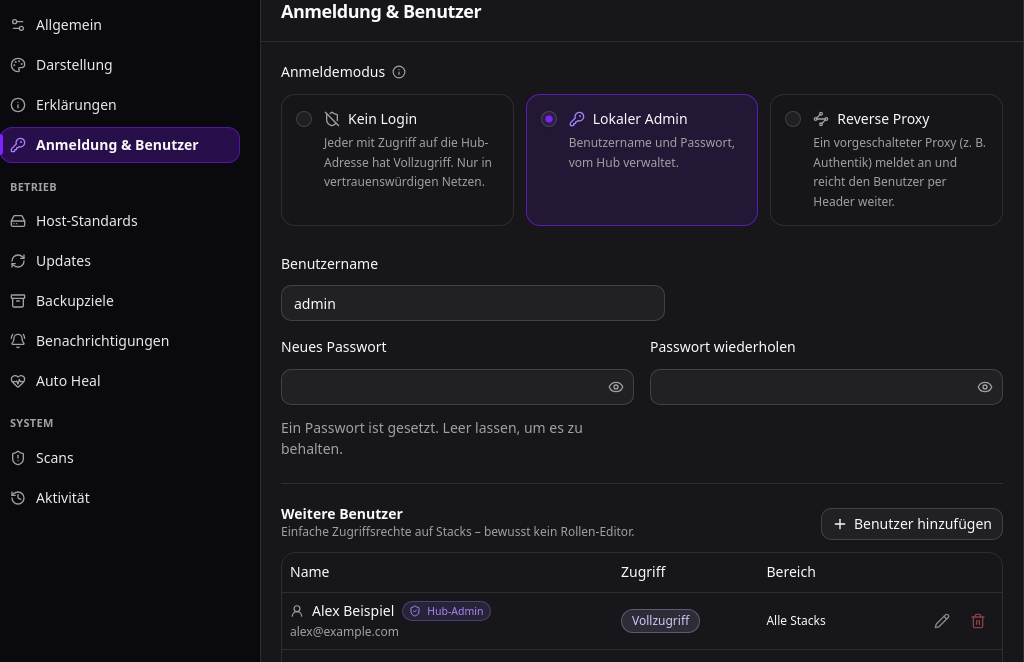
Test: hub settings › never stores the entered local admin password
Type "kurz" into the password field labelled "Neues Passwort" at (443, 386), box [282,368,604,404]
(page scrolled)
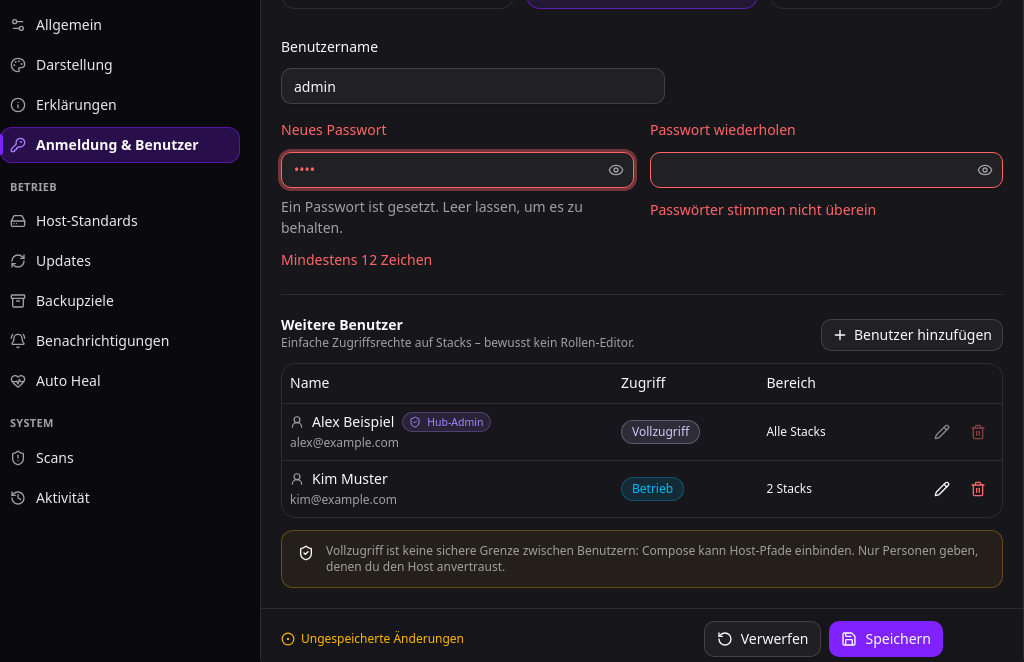
Click the button "Speichern" at (886, 639), box [830,621,943,657]
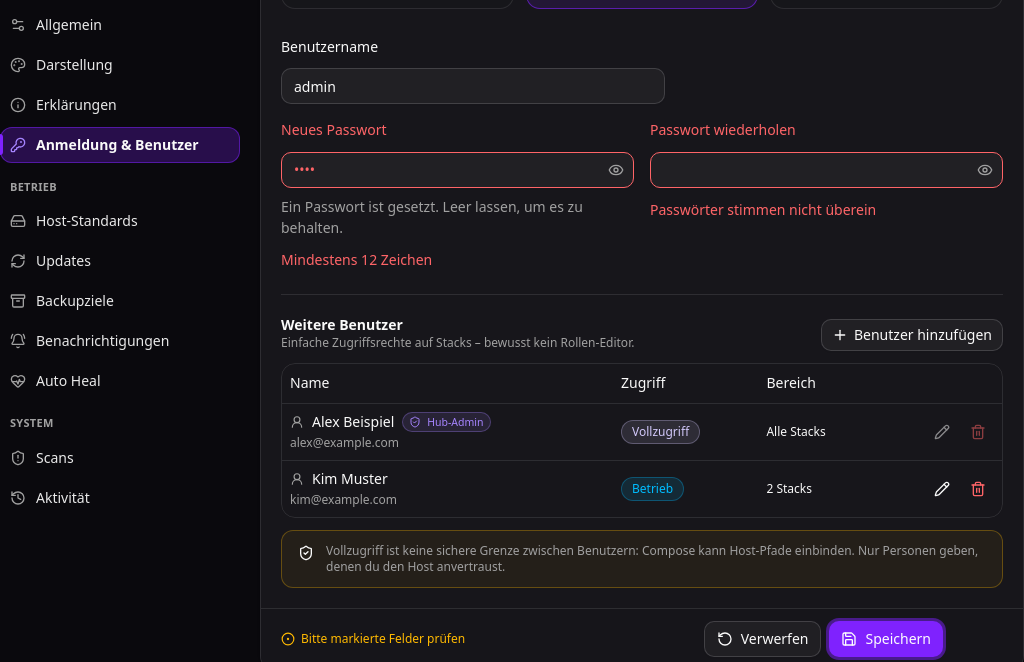
Type "-aber-jetzt-lang" into the password field labelled "Neues Passwort" at (443, 170), box [282,152,604,188]
(page scrolled)
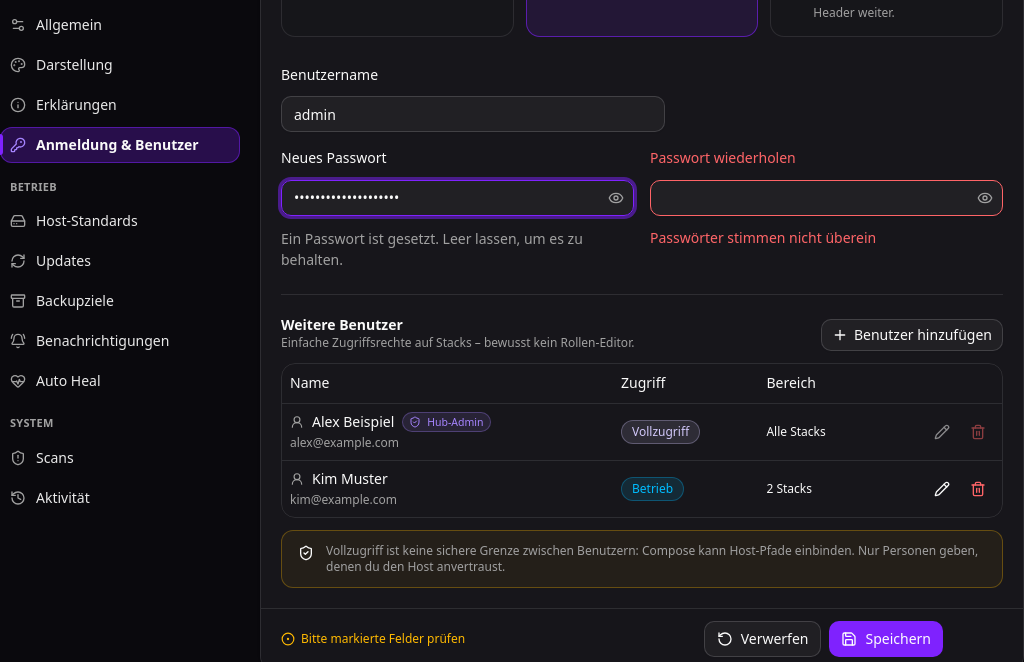
Type "kurz-aber-jetzt-lang" into the password field labelled "Passwort wiederholen" at (812, 198), box [651,180,973,216]
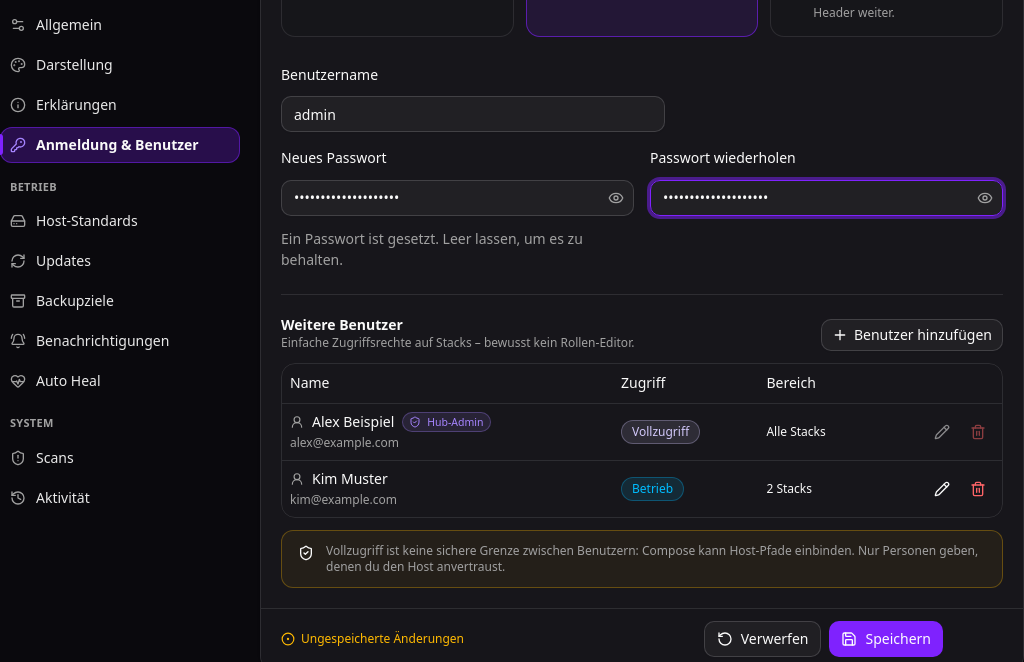
Click the button "Speichern" at (886, 639), box [830,621,943,657]
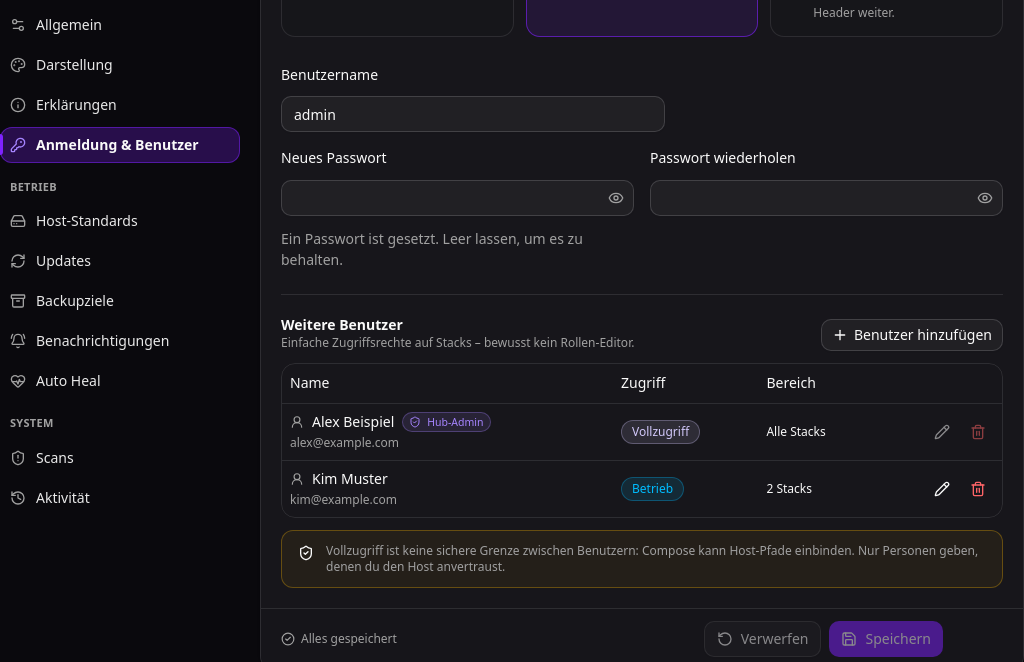
Check: the message "Alles gespeichert" is shown, box [281,631,397,647]
